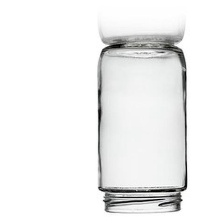glass: (90, 32, 194, 219)
